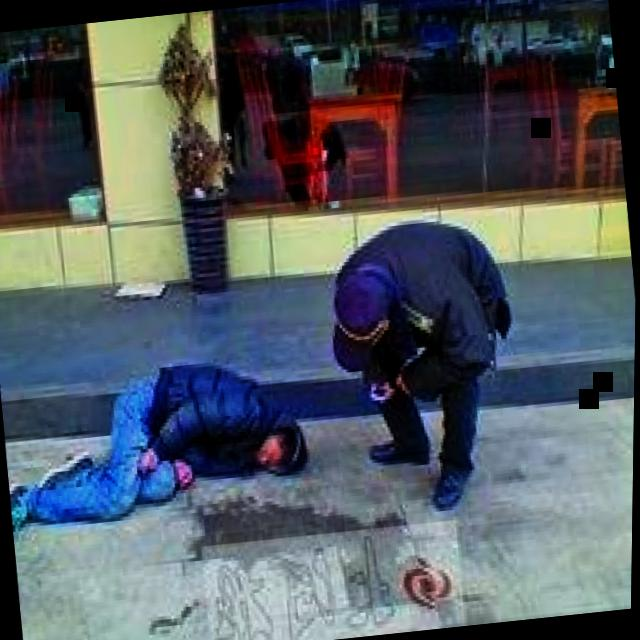Fall-Detected: (0, 321, 330, 548)
